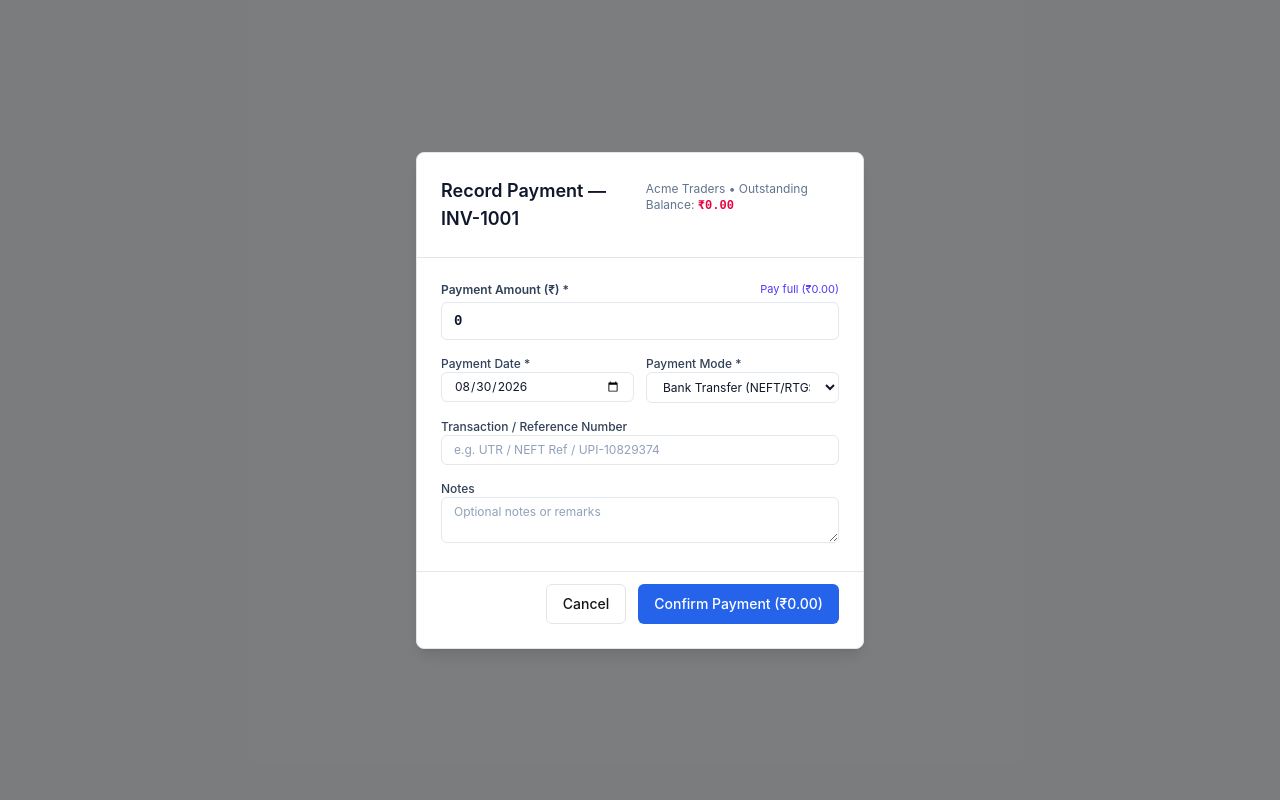
Test: RecordPaymentModal › treats fully paid invoice as zero outstanding
Expected: the number field holds "0", [441,302,839,340]
Click the button "Confirm Payment (₹0.00)". click: [739, 604]
box: [638,584,839,624]
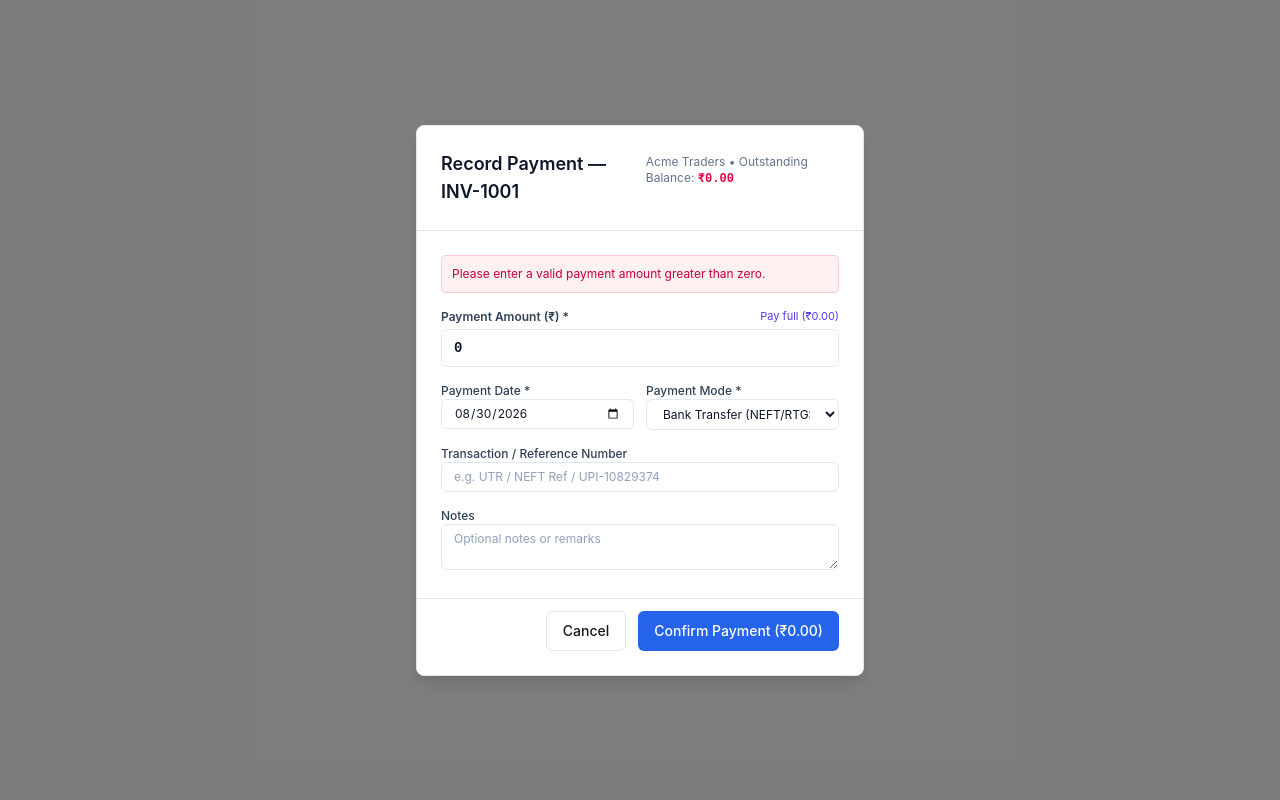
Now the text "Please enter a valid payment amount greater than zero." is shown, box [441,254,839,292]
